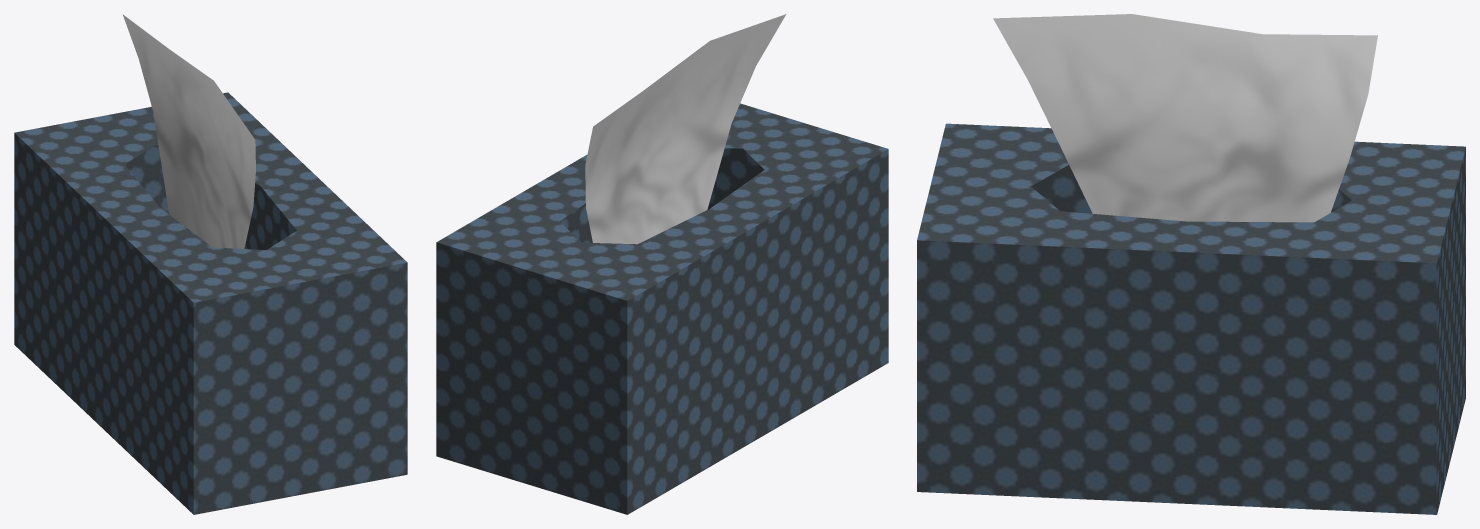
File: tissueBox.glb
The picture shows the model from 3 angles, left to right: view 1: azimuth 30°, elevation 25°; view 2: azimuth 150°, elevation 25°; view 3: azimuth 270°, elevation 25°; orthographic projection. The views are drawn at different scales.
Visible parts, largest first — view 1: tissue_box_geo; view 2: tissue_box_geo; view 3: tissue_box_geo.
Boxes of the visible parts, x1,y1,x2,y2 form: tissue_box_geo: (14,14,407,514); tissue_box_geo: (436,14,888,514); tissue_box_geo: (917,14,1465,514).
Bounding box in the file's own units: 0.132 × 0.1843 × 0.2192.
1 material, 1 textured.
